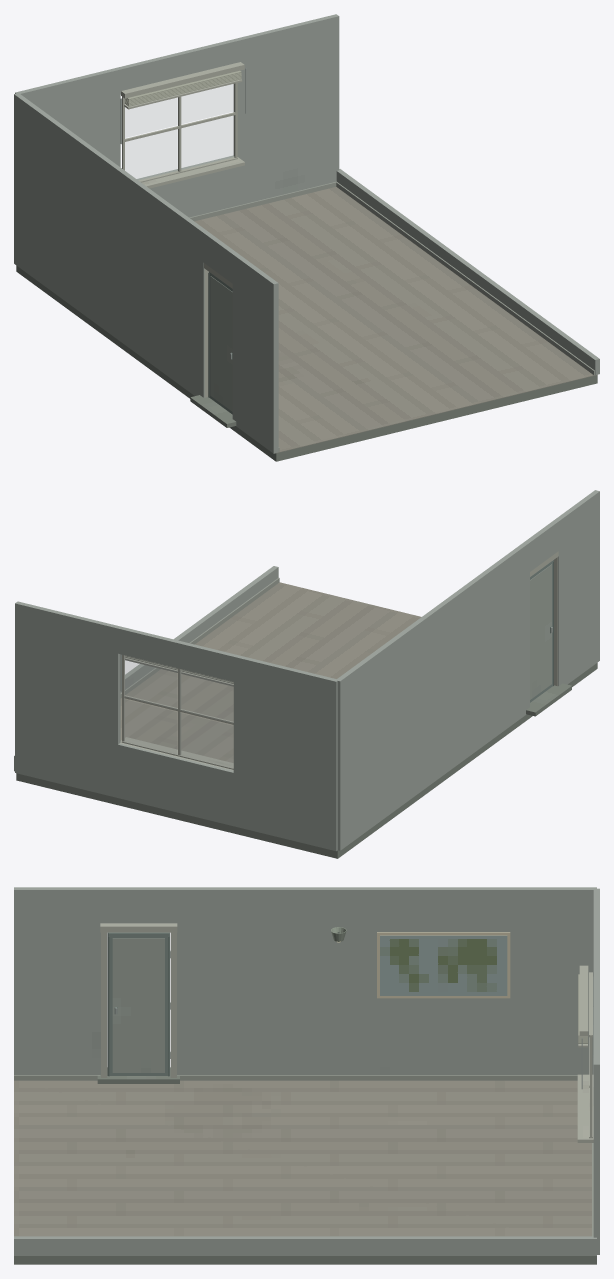
The model's file is room-background.glb.
The picture shows the model from 3 angles, top to bottom: view 1: azimuth 30°, elevation 25°; view 2: azimuth 150°, elevation 25°; view 3: azimuth 270°, elevation 25°; orthographic projection. The views are drawn at different scales.
Visible parts, largest first — view 1: room-background/floor-finish, room-background/left-wall-rear, room-background/back-wall-east, room-background/left-wall-front, room-background/back-wall-west, room-background/floor-structure, room-background/right-low-wall, room-background/back-wall-window-lintel, room-background/back-wall-below-window, room-background/door-panel-exterior, room-background/window-glass-1-0, room-background/window-glass-0-0 (+9 smaller); view 2: room-background/left-wall-rear, room-background/floor-finish, room-background/back-wall-west, room-background/back-wall-east, room-background/left-wall-front, room-background/back-wall-below-window, room-background/floor-structure, room-background/back-wall-window-lintel, room-background/door-panel-exterior, room-background/window-glass-1-0, room-background/window-glass-0-0, room-background/window-glass-1-1 (+7 smaller); view 3: room-background/floor-finish, room-background/left-wall-rear, room-background/left-wall-front, room-background/right-low-wall, room-background/world-map-paper, room-background/door-panel-interior, room-background/floor-structure, room-background/left-wall-door-lintel, room-background/left-skirting-rear, room-background/door-leaf-body, room-background/back-wall-east, room-background/world-map-backing (+7 smaller).
Boxes of the visible parts, <box> form: room-background/floor-finish: <box>194,187,597,453</box>; room-background/left-wall-rear: <box>14,93,207,397</box>; room-background/back-wall-east: <box>233,14,339,205</box>; room-background/left-wall-front: <box>232,253,278,453</box>; room-background/back-wall-west: <box>15,67,120,167</box>; room-background/floor-structure: <box>16,265,597,461</box>; room-background/right-low-wall: <box>336,169,599,374</box>; room-background/back-wall-window-lintel: <box>118,39,236,94</box>; room-background/back-wall-below-window: <box>137,155,236,217</box>; room-background/door-panel-exterior: <box>210,276,232,411</box>; room-background/window-glass-1-0: <box>181,116,232,168</box>; room-background/window-glass-0-0: <box>125,129,177,179</box>; room-background/left-wall-rear: <box>336,541,529,850</box>; room-background/floor-finish: <box>120,582,421,762</box>; room-background/back-wall-west: <box>233,654,338,851</box>; room-background/back-wall-east: <box>15,601,120,797</box>; room-background/left-wall-front: <box>554,490,599,686</box>; room-background/back-wall-below-window: <box>118,743,233,826</box>; room-background/floor-structure: <box>16,663,597,858</box>; room-background/back-wall-window-lintel: <box>118,626,235,681</box>; room-background/door-panel-exterior: <box>530,564,551,699</box>; room-background/window-glass-1-0: <box>124,699,177,754</box>; room-background/window-glass-0-0: <box>180,713,232,768</box>; room-background/window-glass-1-1: <box>124,655,177,709</box>; room-background/floor-finish: <box>14,1080,591,1236</box>; room-background/left-wall-rear: <box>171,887,596,1074</box>; room-background/left-wall-front: <box>14,887,106,1074</box>; room-background/right-low-wall: <box>14,1236,596,1255</box>; room-background/world-map-paper: <box>380,935,507,995</box>; room-background/door-panel-interior: <box>112,938,164,1072</box>; room-background/floor-structure: <box>14,1256,596,1264</box>; room-background/left-wall-door-lintel: <box>106,887,171,923</box>; room-background/left-skirting-rear: <box>177,1075,577,1080</box>; room-background/door-leaf-body: <box>107,932,169,1075</box>; room-background/back-wall-east: <box>593,1008,599,1254</box>; room-background/world-map-backing: <box>377,932,510,998</box>.
Bounding box in the file's own units: 5.6 × 2.84 × 7.54.
Materials: 16 (15 with a texture image).
